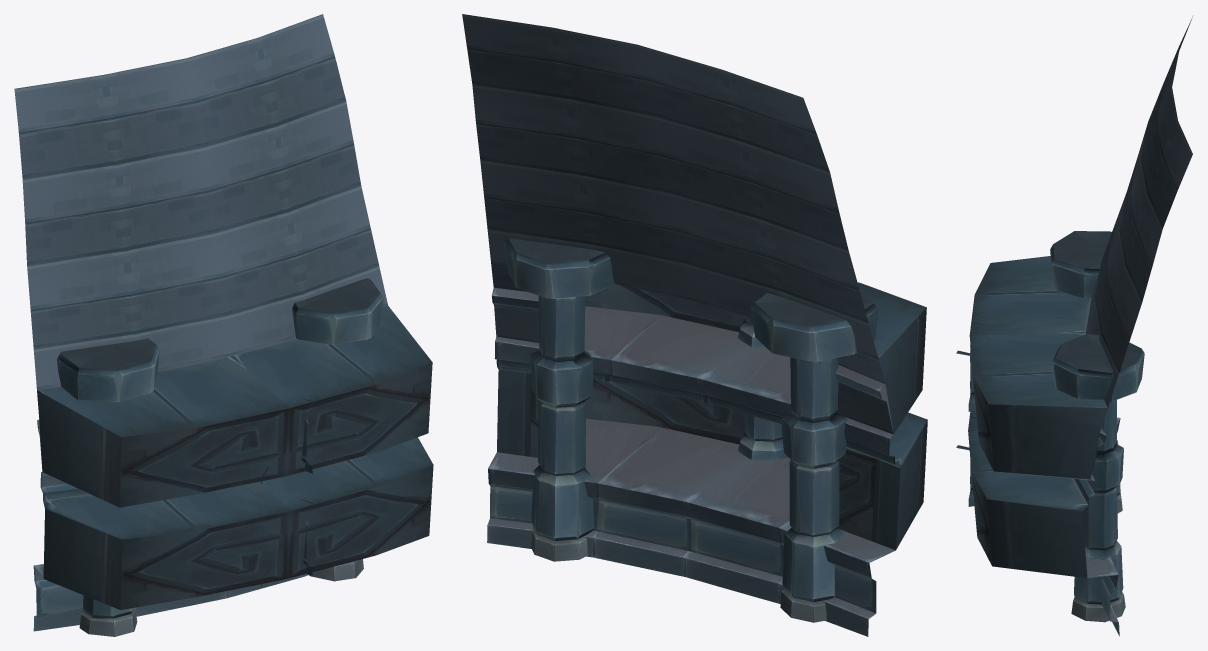
File: A_CR_GEN_WallPanel_05.fbx
3 views of the same model, side by side, from view 1: azimuth 30°, elevation 25°; view 2: azimuth 150°, elevation 25°; view 3: azimuth 270°, elevation 25° (orthographic). The views are drawn at different scales.
Visible parts, largest first — view 1: A_CR_GEN_WallPanel_05; view 2: A_CR_GEN_WallPanel_05; view 3: A_CR_GEN_WallPanel_05.
Boxes of the visible parts, bbox=[...] form: A_CR_GEN_WallPanel_05: bbox=[14, 14, 433, 636]; A_CR_GEN_WallPanel_05: bbox=[462, 14, 927, 636]; A_CR_GEN_WallPanel_05: bbox=[956, 15, 1193, 636].
Bounding box in the file's own units: 627 × 841 × 382.
Materials: 1 (1 with a texture image).
